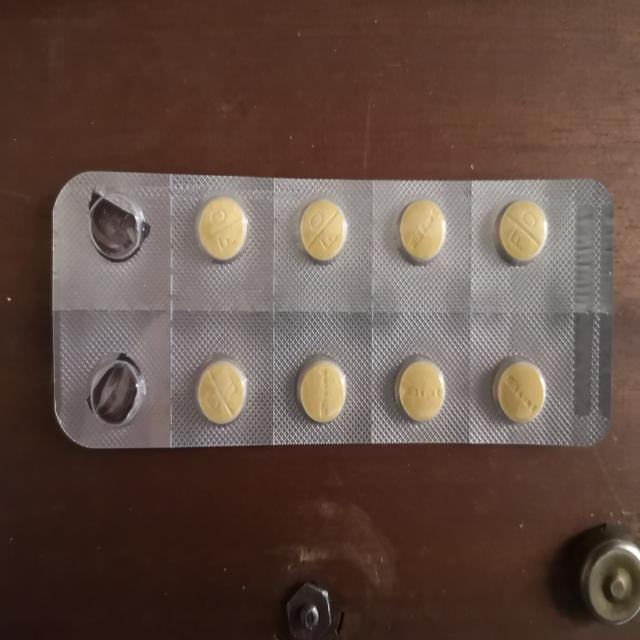Empty: (81, 188, 152, 265), (83, 351, 148, 429)
Pill: (289, 354, 353, 429), (190, 355, 250, 430), (389, 355, 451, 427), (188, 192, 249, 264), (491, 356, 548, 429), (492, 199, 552, 267), (292, 198, 352, 265), (392, 196, 451, 264)
